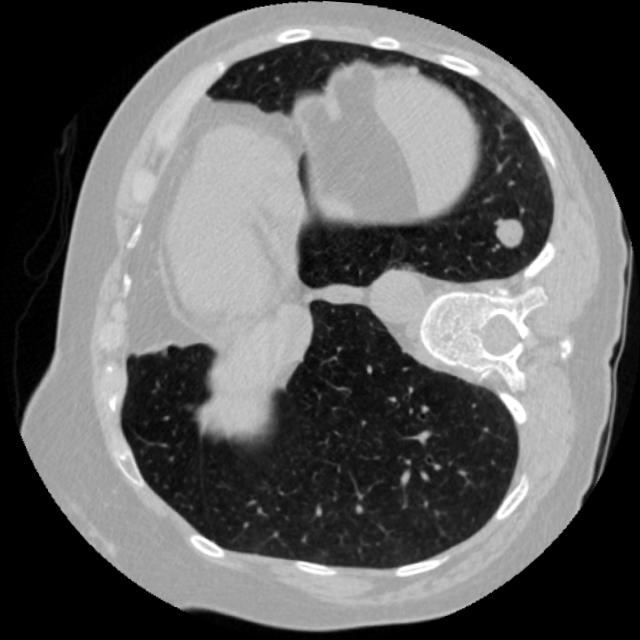nodule: (477, 201, 541, 265)
